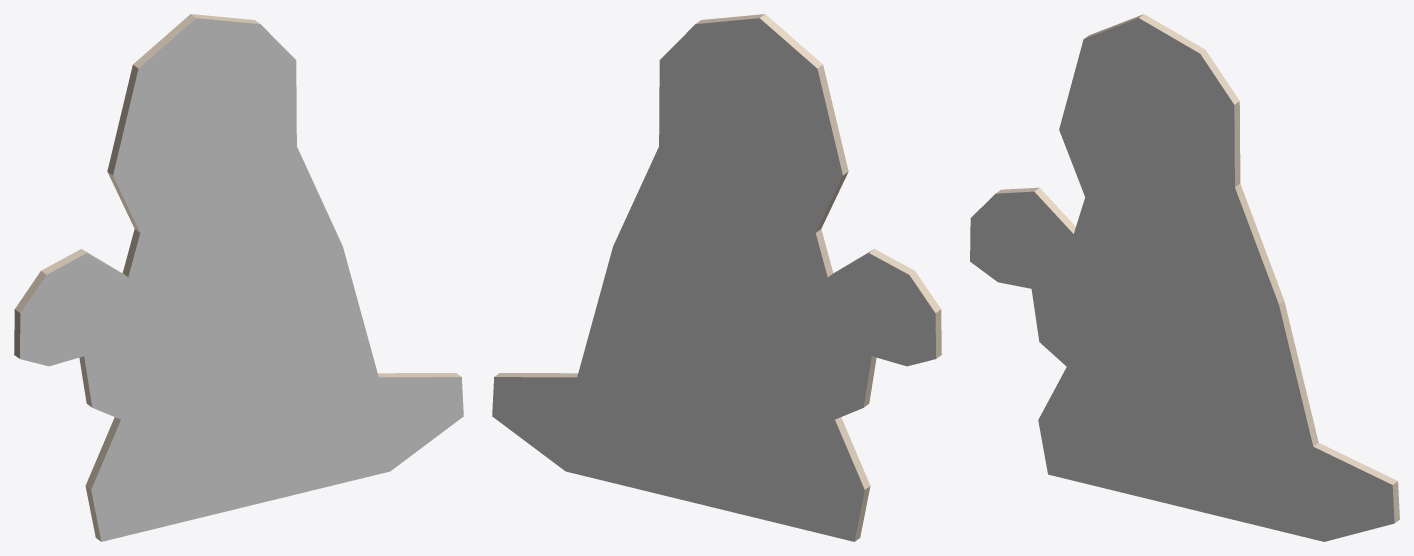
File: monster6.fbx
3 views of the same model, side by side, from view 1: azimuth 30°, elevation 25°; view 2: azimuth 150°, elevation 25°; view 3: azimuth 330°, elevation 25° (orthographic). The views are drawn at different scales.
Visible parts, largest first — view 1: Monster6; view 2: Monster6; view 3: Monster6.
Boxes of the visible parts, x1,y1,x2,y2 form: Monster6: (14, 14, 463, 541); Monster6: (492, 14, 941, 541); Monster6: (970, 14, 1399, 541).
Size of the model in its own units: 96.7 by 104 by 2.14.
